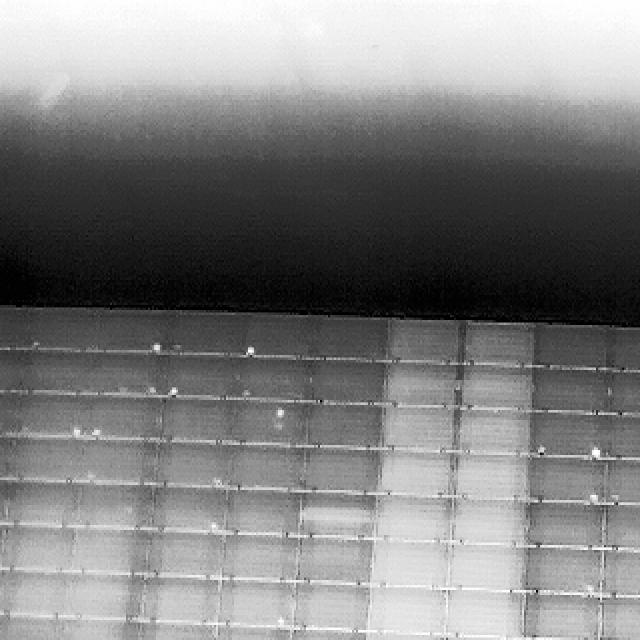Hotspots: (149, 335, 169, 359), (272, 401, 290, 425), (585, 487, 601, 508), (160, 378, 178, 396), (586, 439, 605, 456), (534, 439, 550, 459), (209, 515, 223, 536), (270, 610, 286, 627), (77, 428, 96, 441), (584, 583, 598, 598)
PV-modules: (0, 434, 82, 483), (141, 574, 221, 624), (442, 590, 520, 640), (148, 532, 226, 582), (525, 501, 604, 550), (170, 313, 254, 359), (216, 577, 293, 627), (80, 436, 160, 484), (526, 454, 606, 502), (0, 390, 80, 438), (229, 398, 309, 446), (521, 548, 599, 597), (72, 529, 150, 578), (154, 482, 230, 532), (295, 580, 371, 630), (3, 480, 82, 528), (0, 348, 86, 392), (305, 404, 385, 451), (451, 496, 526, 546), (368, 590, 446, 638), (0, 308, 89, 350), (82, 396, 165, 441), (532, 364, 609, 412), (2, 527, 79, 575), (169, 353, 251, 398), (75, 484, 153, 531), (309, 358, 387, 405), (306, 448, 384, 495), (446, 545, 524, 592), (222, 536, 298, 584), (373, 541, 449, 589), (452, 455, 528, 503), (297, 539, 373, 587), (531, 326, 610, 372), (312, 318, 394, 362), (518, 595, 598, 640), (381, 450, 453, 500), (379, 493, 454, 541), (228, 446, 306, 492), (299, 492, 377, 538), (226, 488, 302, 535), (90, 305, 173, 348), (381, 406, 455, 454), (69, 570, 146, 616), (157, 444, 234, 488), (455, 409, 530, 454), (86, 350, 162, 394), (459, 323, 532, 368), (458, 364, 530, 409), (2, 570, 72, 616), (164, 398, 234, 444), (531, 413, 604, 457), (243, 356, 311, 403), (392, 320, 464, 364), (384, 362, 458, 404), (250, 316, 316, 359), (600, 545, 640, 595), (600, 412, 640, 460), (600, 502, 640, 550), (58, 617, 140, 640), (602, 460, 640, 508), (598, 597, 640, 640), (138, 617, 214, 640), (0, 612, 62, 640), (604, 367, 640, 415), (606, 327, 640, 375), (214, 625, 292, 640), (288, 627, 368, 640), (362, 630, 438, 640), (442, 632, 522, 640), (516, 637, 596, 640)
